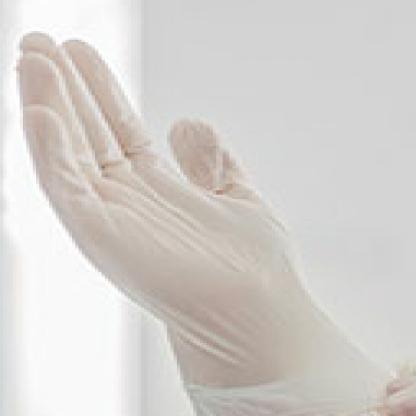with_gloves: (16, 22, 389, 399)
